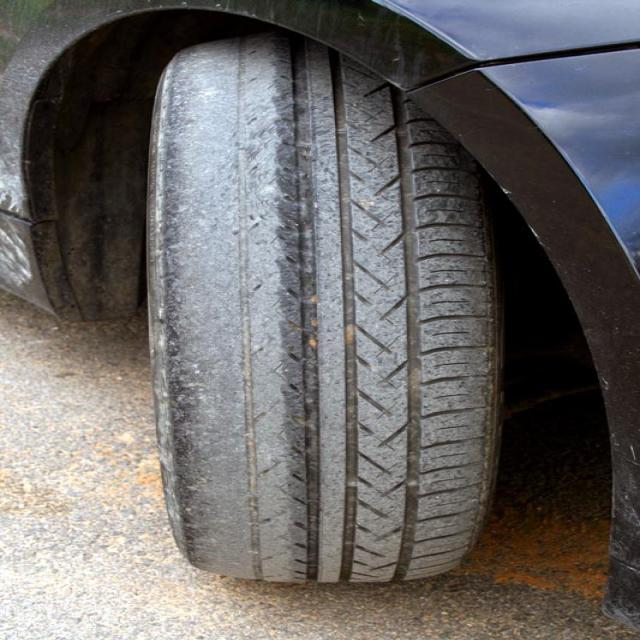Flat spots: (145, 44, 315, 588)
